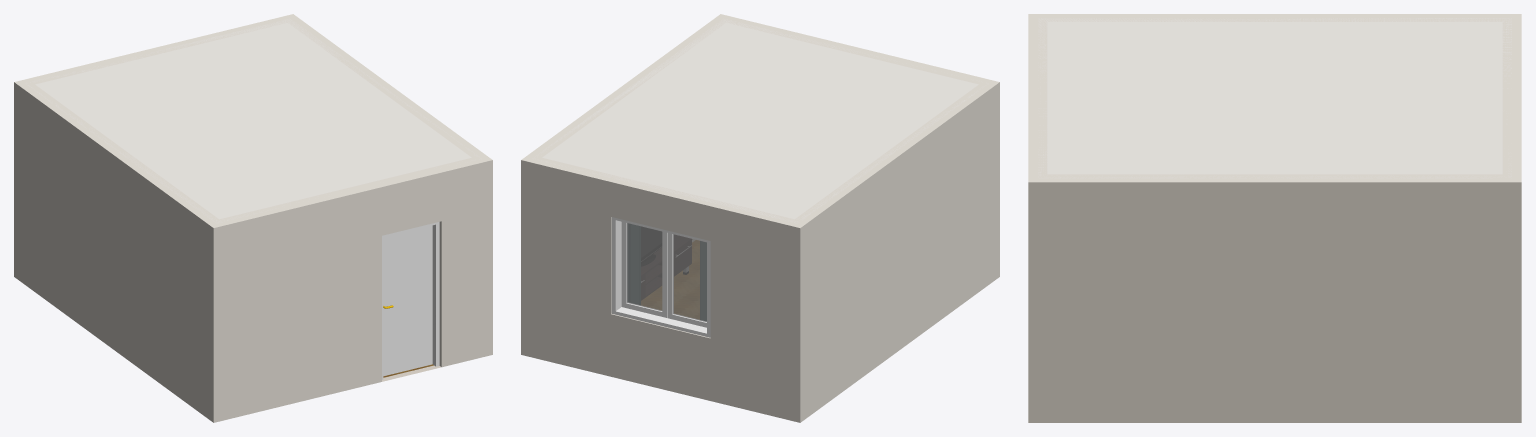
The picture shows the model from 3 angles, left to right: view 1: azimuth 30°, elevation 25°; view 2: azimuth 150°, elevation 25°; view 3: azimuth 270°, elevation 25°; orthographic projection. The views are drawn at different scales.
Visible parts, largest first — view 1: room_5_27, wall_3_16, wall_4_22, sweethome3d_opening_on_hinge_1_door_36, frame_28, wall_2_12, wall_4_24, wall_4_25, wall_2_13, wall_3_18, wall_1_6, wall_3_19 (+1 smaller); view 2: room_5_27, wall_1_4, wall_4_22, sweethome3d_window_pane_on_hinge_2_48, sweethome3d_window_pane_on_hinge_1_43, frame_37, room_5_26, wall_2_12, wall_4_24, sweethome3d_opening_on_hinge_2_47, wall_4_25, wall_2_13 (+9 smaller); view 3: wall_2_10, room_5_27, wall_2_12, wall_2_13, wall_4_24, wall_4_25, wall_1_6, wall_3_18, wall_3_19, wall_1_7.
Part boxes in pixels (bbox=[...]): room_5_27: bbox=[26, 18, 481, 222]; wall_3_16: bbox=[213, 160, 492, 422]; wall_4_22: bbox=[14, 82, 213, 422]; sweethome3d_opening_on_hinge_1_door_36: bbox=[383, 225, 432, 376]; frame_28: bbox=[382, 222, 439, 379]; wall_2_12: bbox=[290, 14, 492, 159]; wall_4_24: bbox=[15, 82, 215, 227]; wall_4_25: bbox=[25, 83, 218, 223]; wall_2_13: bbox=[288, 18, 481, 158]; wall_3_18: bbox=[214, 159, 492, 227]; wall_1_6: bbox=[14, 14, 292, 83]; wall_3_19: bbox=[217, 157, 480, 223]; room_5_27: bbox=[532, 19, 988, 222]; wall_1_4: bbox=[521, 160, 800, 422]; wall_4_22: bbox=[800, 82, 999, 422]; sweethome3d_window_pane_on_hinge_2_48: bbox=[627, 223, 662, 311]; sweethome3d_window_pane_on_hinge_1_43: bbox=[673, 234, 706, 322]; frame_37: bbox=[611, 217, 710, 337]; room_5_26: bbox=[641, 240, 699, 319]; wall_2_12: bbox=[521, 14, 723, 159]; wall_4_24: bbox=[798, 82, 998, 227]; sweethome3d_opening_on_hinge_2_47: bbox=[621, 222, 667, 317]; wall_4_25: bbox=[795, 83, 988, 223]; wall_2_13: bbox=[532, 18, 725, 158]; wall_2_10: bbox=[1028, 182, 1521, 422]; room_5_27: bbox=[1038, 18, 1511, 178]; wall_2_12: bbox=[1029, 178, 1520, 182]; wall_2_13: bbox=[1038, 174, 1511, 178]; wall_4_24: bbox=[1029, 14, 1520, 17]; wall_4_25: bbox=[1038, 18, 1510, 21]; wall_1_6: bbox=[1512, 14, 1521, 181]; wall_3_18: bbox=[1028, 14, 1037, 181]; wall_3_19: bbox=[1038, 18, 1047, 177]; wall_1_7: bbox=[1502, 18, 1511, 177].
Size of the model in its own units: 420 by 280 by 520.
Materials: 55 (12 with a texture image).
